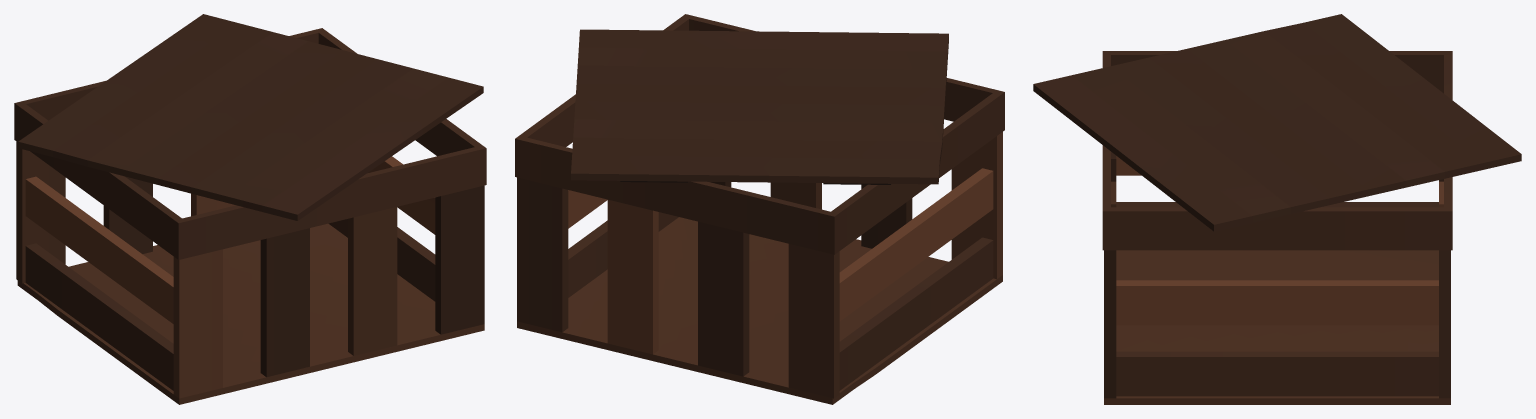
File: Med Dark Crate Open Lid.fbx
3 renders of one model, left to right at view 1: azimuth 30°, elevation 25°; view 2: azimuth 150°, elevation 25°; view 3: azimuth 270°, elevation 25°, orthographic. The views are drawn at different scales.
Visible parts, largest first — view 1: Med Dark Crate Open Lid; view 2: Med Dark Crate Open Lid; view 3: Med Dark Crate Open Lid.
Part boxes in pixels (x1,y1,x2,y2): Med Dark Crate Open Lid: (14, 14, 486, 404); Med Dark Crate Open Lid: (515, 14, 1004, 404); Med Dark Crate Open Lid: (1033, 14, 1521, 404).
Bounding box in the file's own units: 125 × 268 × 273.
Materials: 1 (1 with a texture image).
